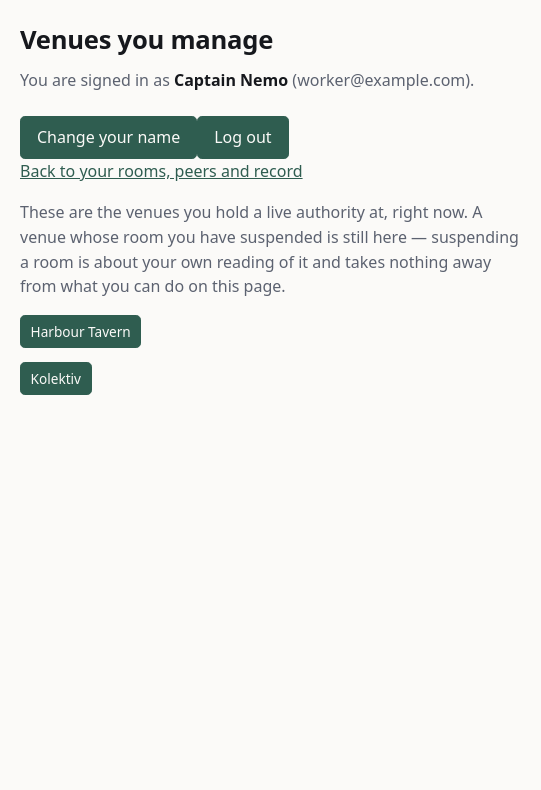
it: a shift's roster › says so when the shift has nobody on it, without reading as a failure
Click the button "Harbour Tavern".
click(81, 332)  # box [20,315,141,348]
(page scrolled)
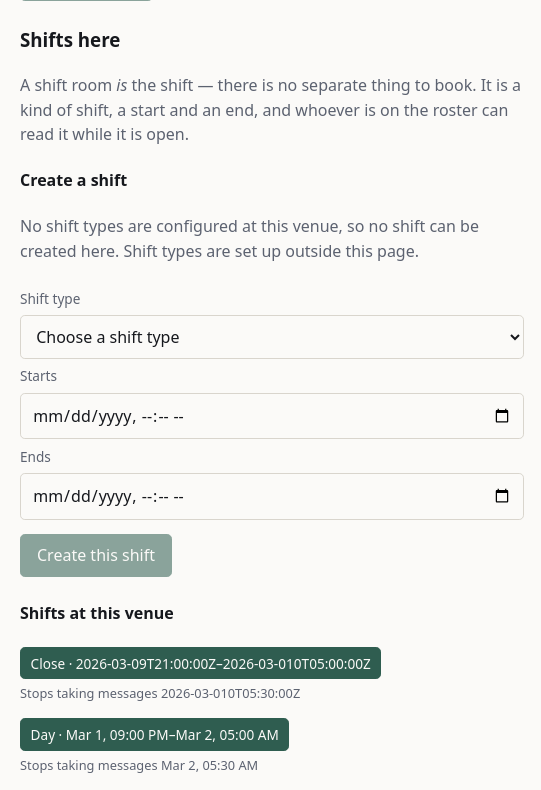
Click the button "Close · 2026-03-09T21:00:00Z–2026-03-010T05:00:00Z".
click(201, 663)  # box [20,647,381,680]
(page scrolled)
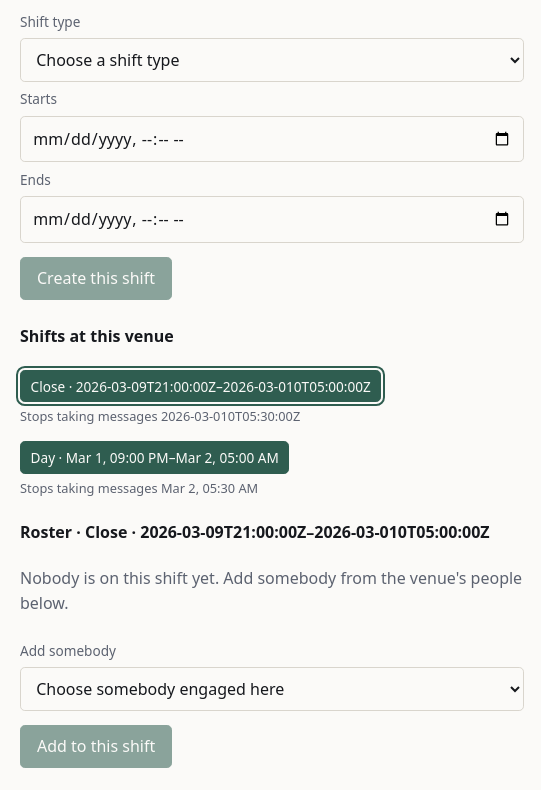
Now the text "Nobody is on this shift yet" is shown, box [20,567,522,614]
